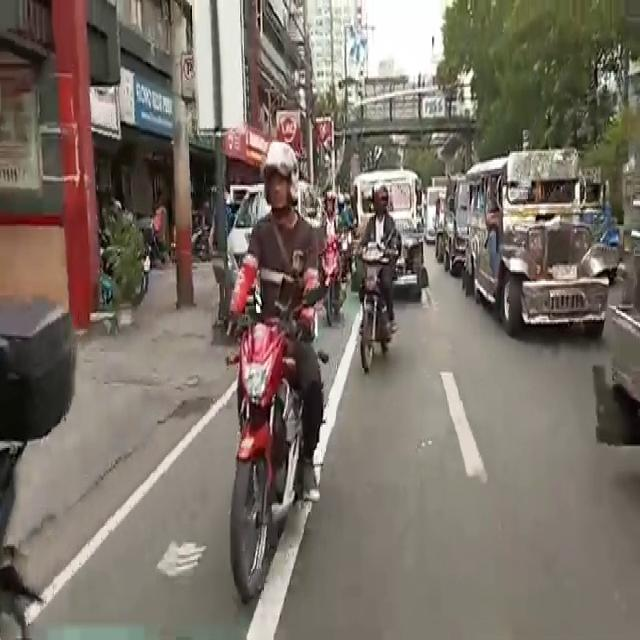jeepney: (468, 164, 608, 324), (352, 164, 428, 304)
motorcycle: (243, 165, 322, 562), (364, 193, 400, 376)
